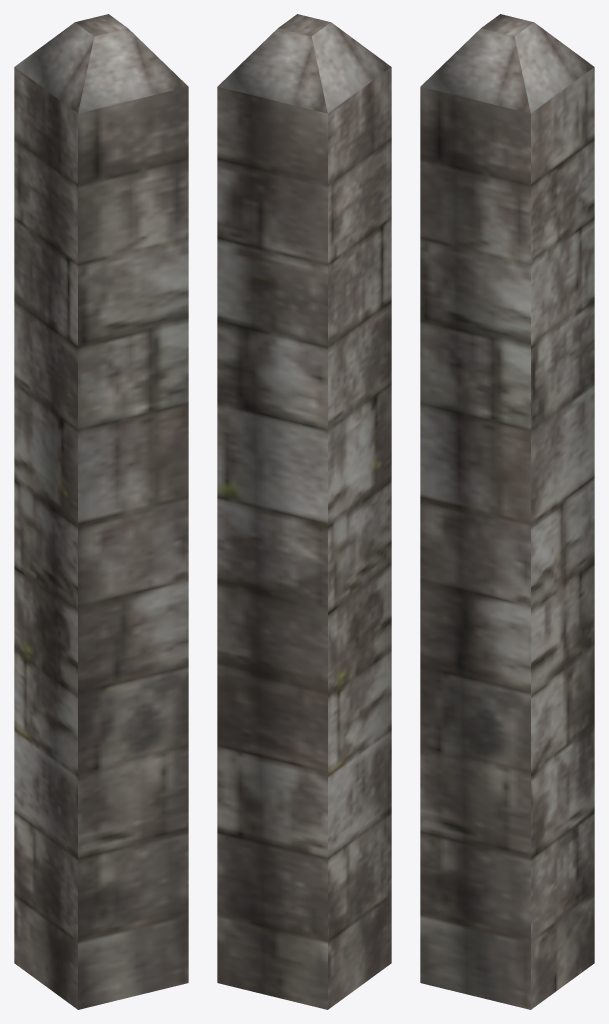
Rendered from support.glb.
3 renders of one model, left to right at view 1: azimuth 30°, elevation 25°; view 2: azimuth 150°, elevation 25°; view 3: azimuth 330°, elevation 25°, orthographic.
Parts seen in each view (by area): view 1: support; view 2: support; view 3: support.
Boxes of the visible parts, <box> form: support: <box>14,14,188,1009</box>; support: <box>217,14,391,1009</box>; support: <box>420,14,594,1009</box>.
Bounding box in the file's own units: 1 × 8.2 × 1.
Materials: 1 (1 with a texture image).
